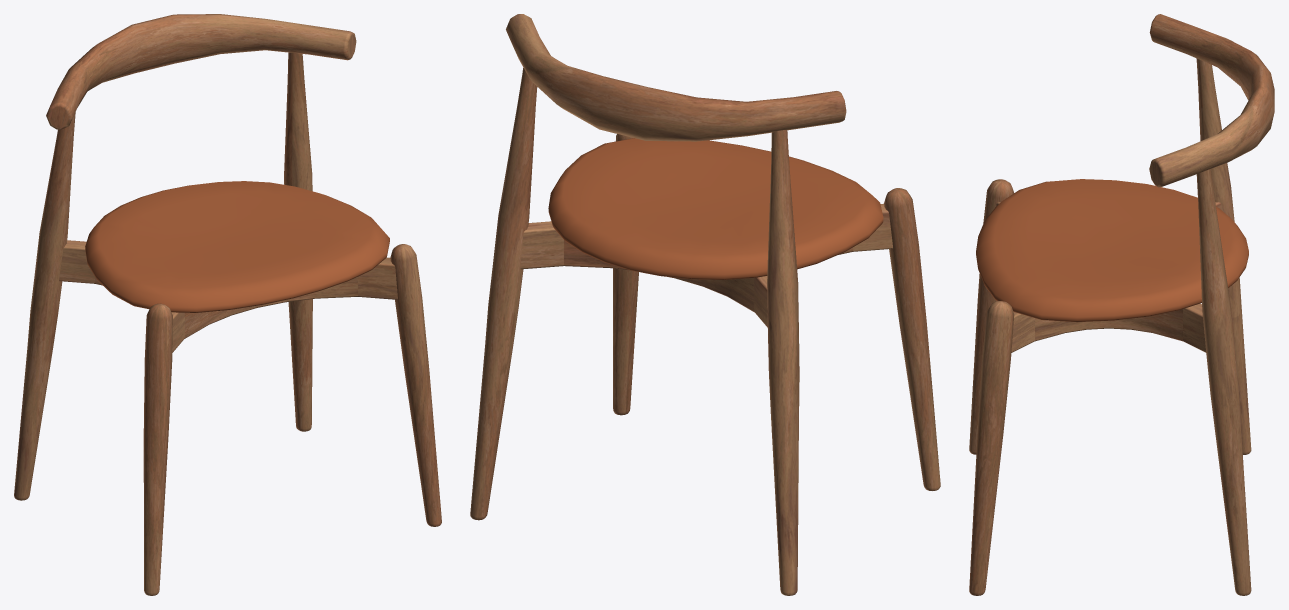
Rendered from dining_chair.glb.
3 views of the same model, side by side, from view 1: azimuth 30°, elevation 25°; view 2: azimuth 150°, elevation 25°; view 3: azimuth 270°, elevation 25° (orthographic). The views are drawn at different scales.
Visible parts, largest first — view 1: Scandinavian_DiningChair_0; view 2: Scandinavian_DiningChair_0; view 3: Scandinavian_DiningChair_0.
Part boxes in pixels (x1,y1,x2,y2): Scandinavian_DiningChair_0: (14, 14, 441, 595); Scandinavian_DiningChair_0: (470, 14, 940, 595); Scandinavian_DiningChair_0: (969, 14, 1274, 595).
Bounding box in the file's own units: 0.5495 × 0.7398 × 0.4593.
1 material, 1 textured.
